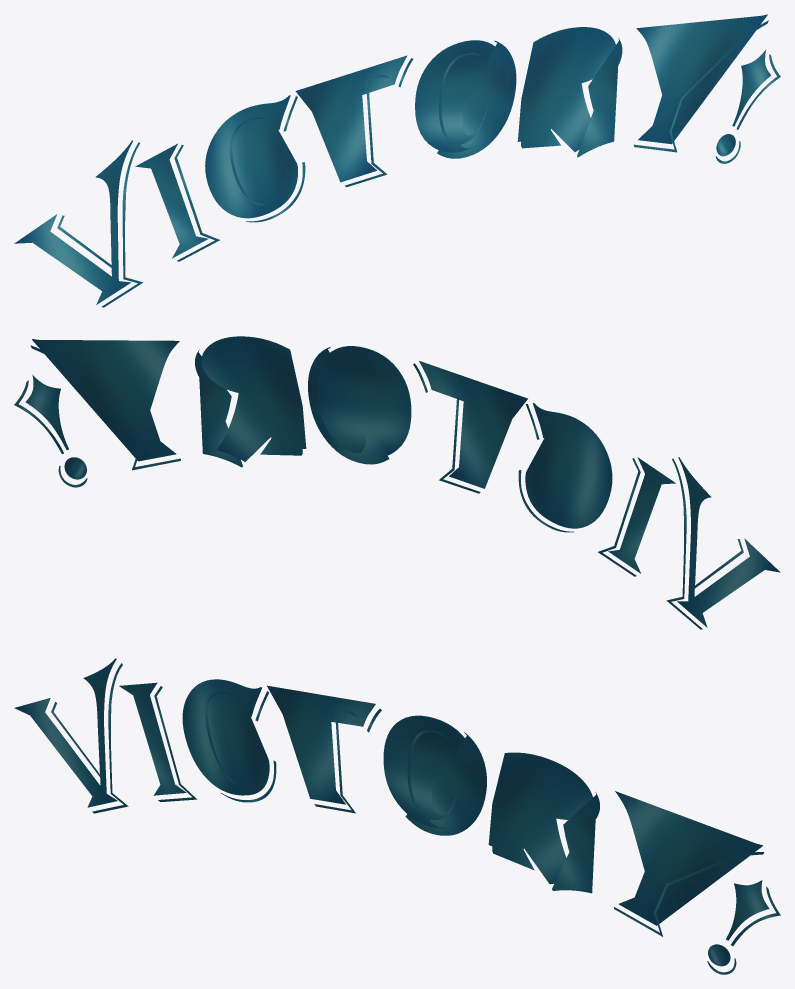
Rendered from Victory.FBX.
3 renders of one model, top to bottom at view 1: azimuth 30°, elevation 25°; view 2: azimuth 150°, elevation 25°; view 3: azimuth 330°, elevation 25°, orthographic.
Visible parts, largest first — view 1: Victory; view 2: Victory; view 3: Victory.
Boxes of the visible parts, box(x1,y1,x2,y2) form: Victory: box(14, 14, 780, 307); Victory: box(14, 336, 780, 629); Victory: box(14, 658, 780, 974).
Bounding box in the file's own units: 2.8 × 0.6935 × 0.1012.
1 material, 1 textured.
